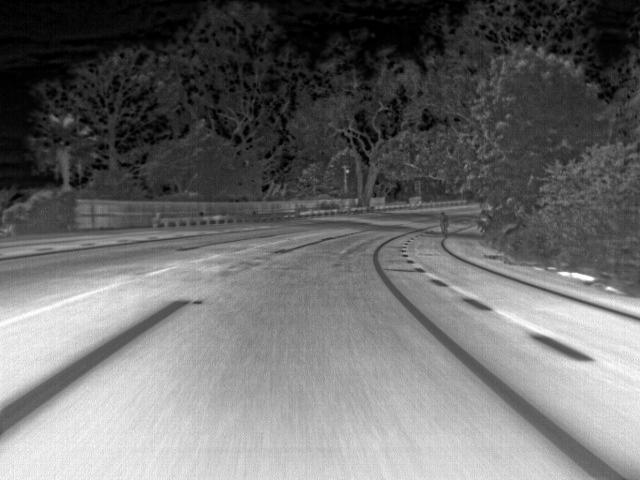person: (437, 208, 450, 226)
